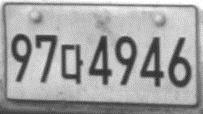4: (138, 36, 165, 87), (87, 34, 113, 85)
6: (167, 36, 192, 88)
7: (34, 33, 58, 83)
9: (114, 34, 137, 87), (10, 32, 32, 82)
다: (60, 43, 84, 85)
